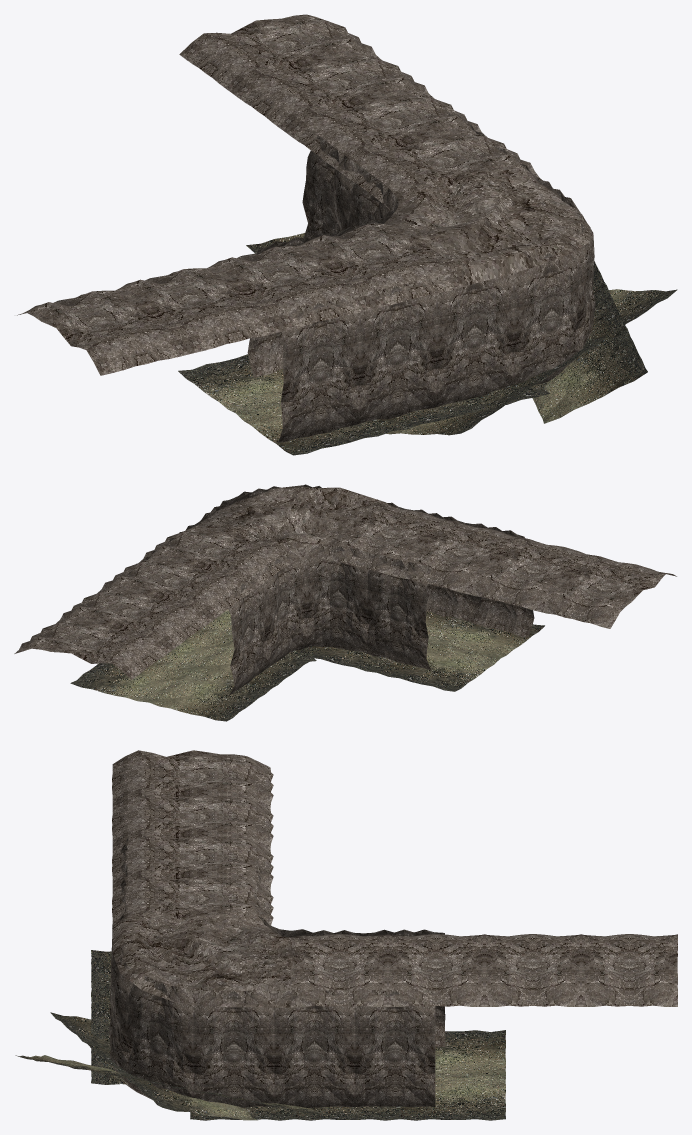
File: HallwayCaveSegmentTest4.glb
3 views of the same model, one above another, from view 1: azimuth 30°, elevation 25°; view 2: azimuth 150°, elevation 25°; view 3: azimuth 270°, elevation 25° (orthographic). The views are drawn at different scales.
Parts seen in each view (by area): view 1: Plane.036; view 2: Plane.036; view 3: Plane.036.
Part boxes in pixels (x1=…): Plane.036: x1=17, y1=14, x2=677, y2=455; Plane.036: x1=14, y1=484, x2=676, y2=721; Plane.036: x1=15, y1=750, x2=677, y2=1120.
Size of the model in its own units: 70.48 by 17.74 by 73.39.
Materials: 2 (2 with a texture image).
